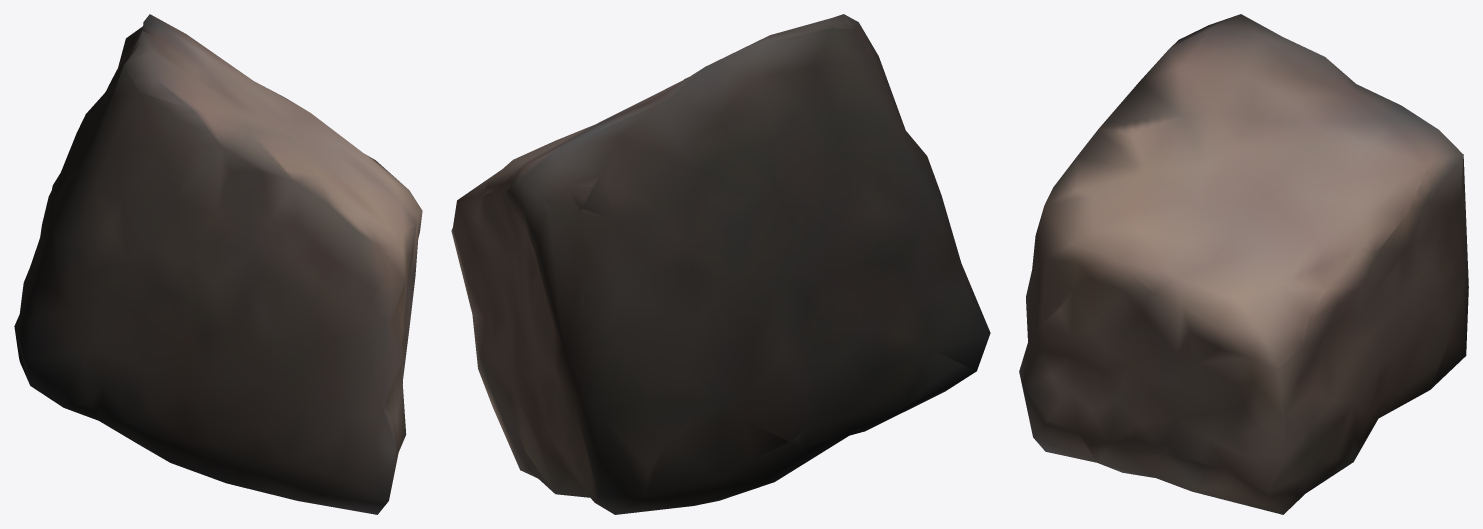
The model's file is cut_stone.glb.
The picture shows the model from 3 angles, left to right: view 1: azimuth 30°, elevation 25°; view 2: azimuth 150°, elevation 25°; view 3: azimuth 270°, elevation 25°; orthographic projection. The views are drawn at different scales.
Visible parts, largest first — view 1: model; view 2: model; view 3: model.
Part boxes in pixels (x1,y1,x2,y2): model: (14,14,422,514); model: (451,14,990,514); model: (1019,14,1468,514).
Bounding box in the file's own units: 0.3998 × 0.3816 × 0.3984.
1 material, 1 textured.
